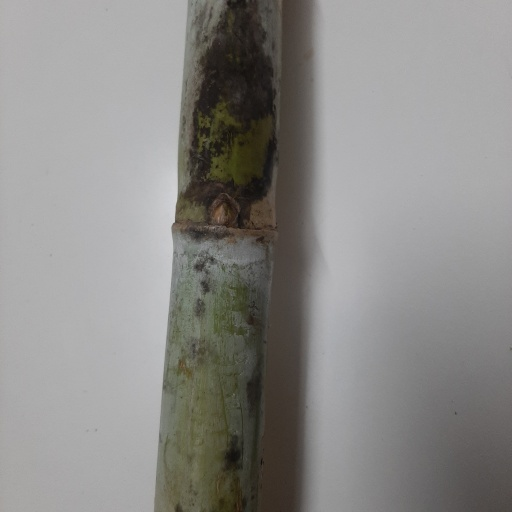Bud: (210, 197, 239, 226)
